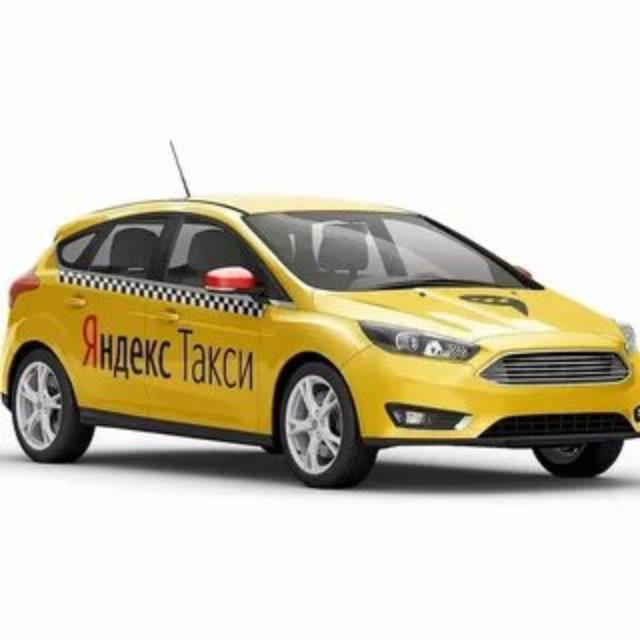taxi: (1, 141, 639, 489)
